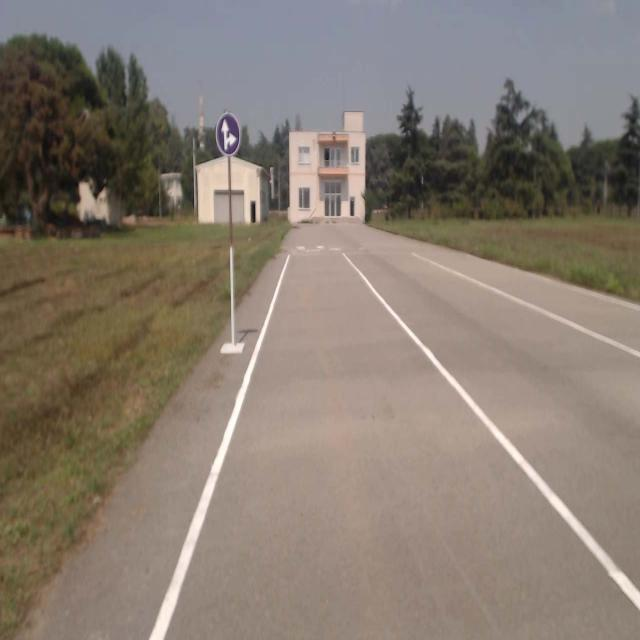ilerisag: (216, 112, 241, 156)
